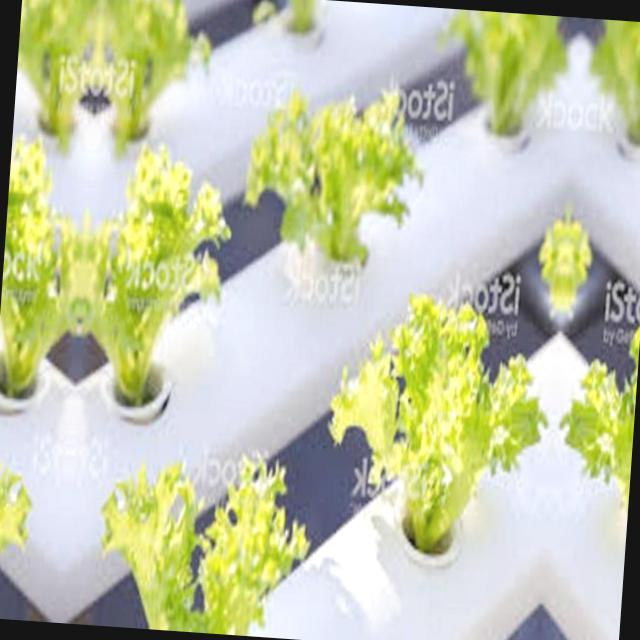healthy: (332, 292, 552, 564), (80, 428, 316, 640), (73, 146, 227, 428), (240, 74, 440, 282), (0, 141, 91, 418), (554, 307, 640, 569), (445, 9, 581, 151), (91, 0, 218, 152), (12, 0, 103, 143), (0, 420, 52, 621), (573, 17, 640, 155)
